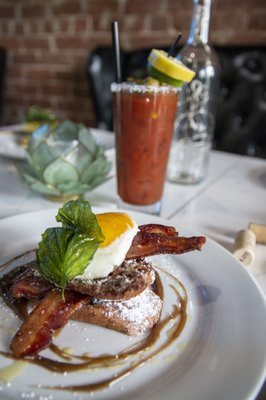pizza: (111, 79, 180, 215)
